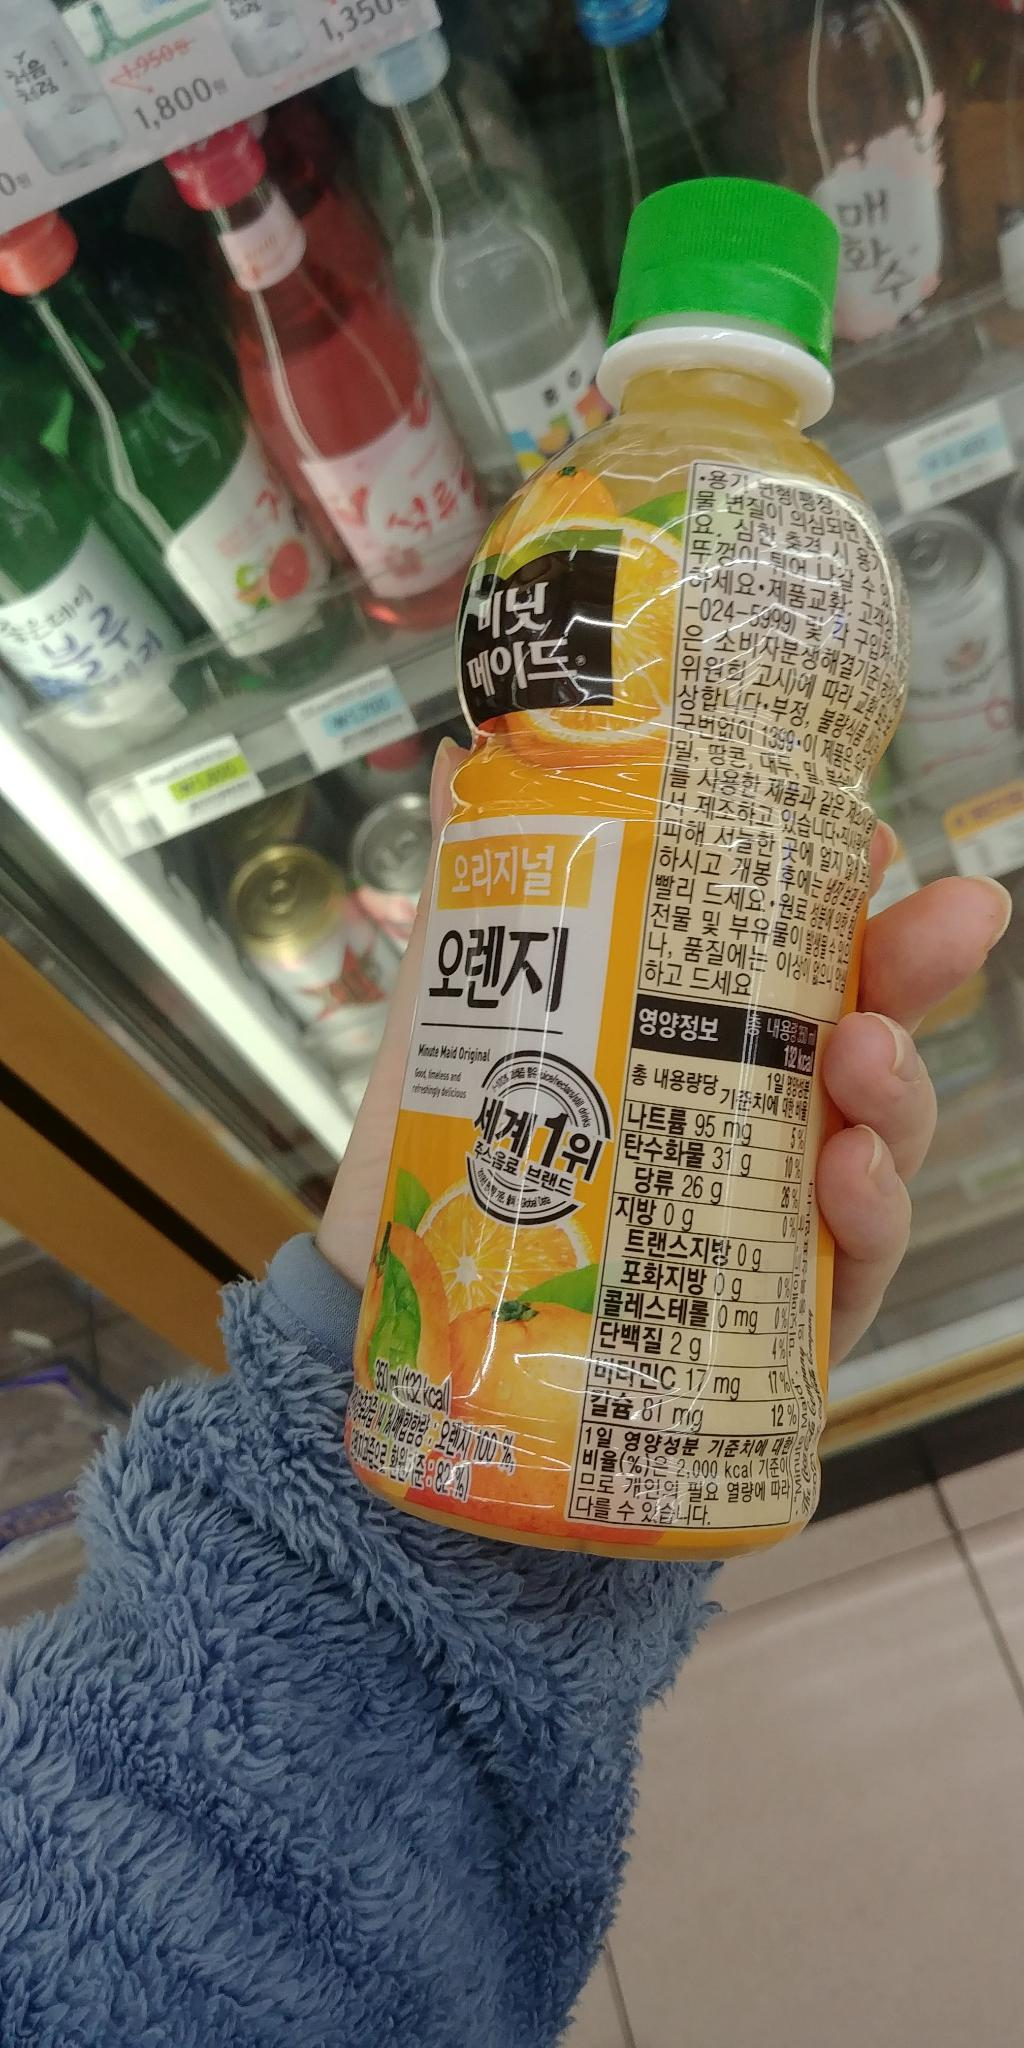minutemaid_org_orange: (368, 152, 899, 1582)
